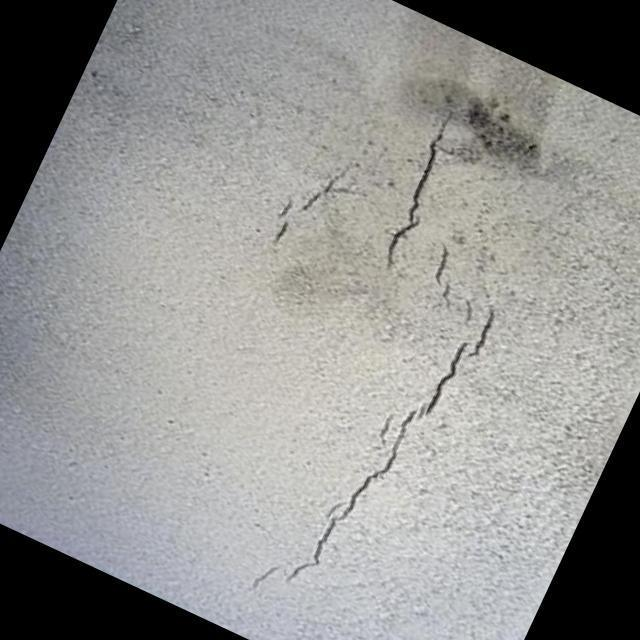defect: (246, 241, 499, 591), (382, 106, 455, 269), (265, 171, 343, 248)
